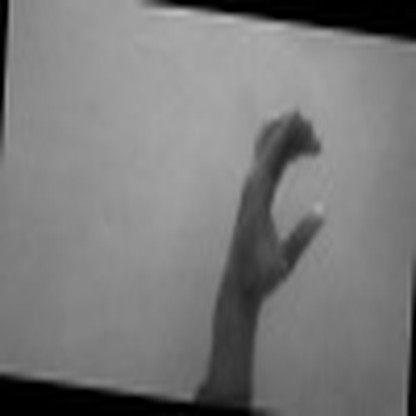c: (223, 101, 332, 297)
